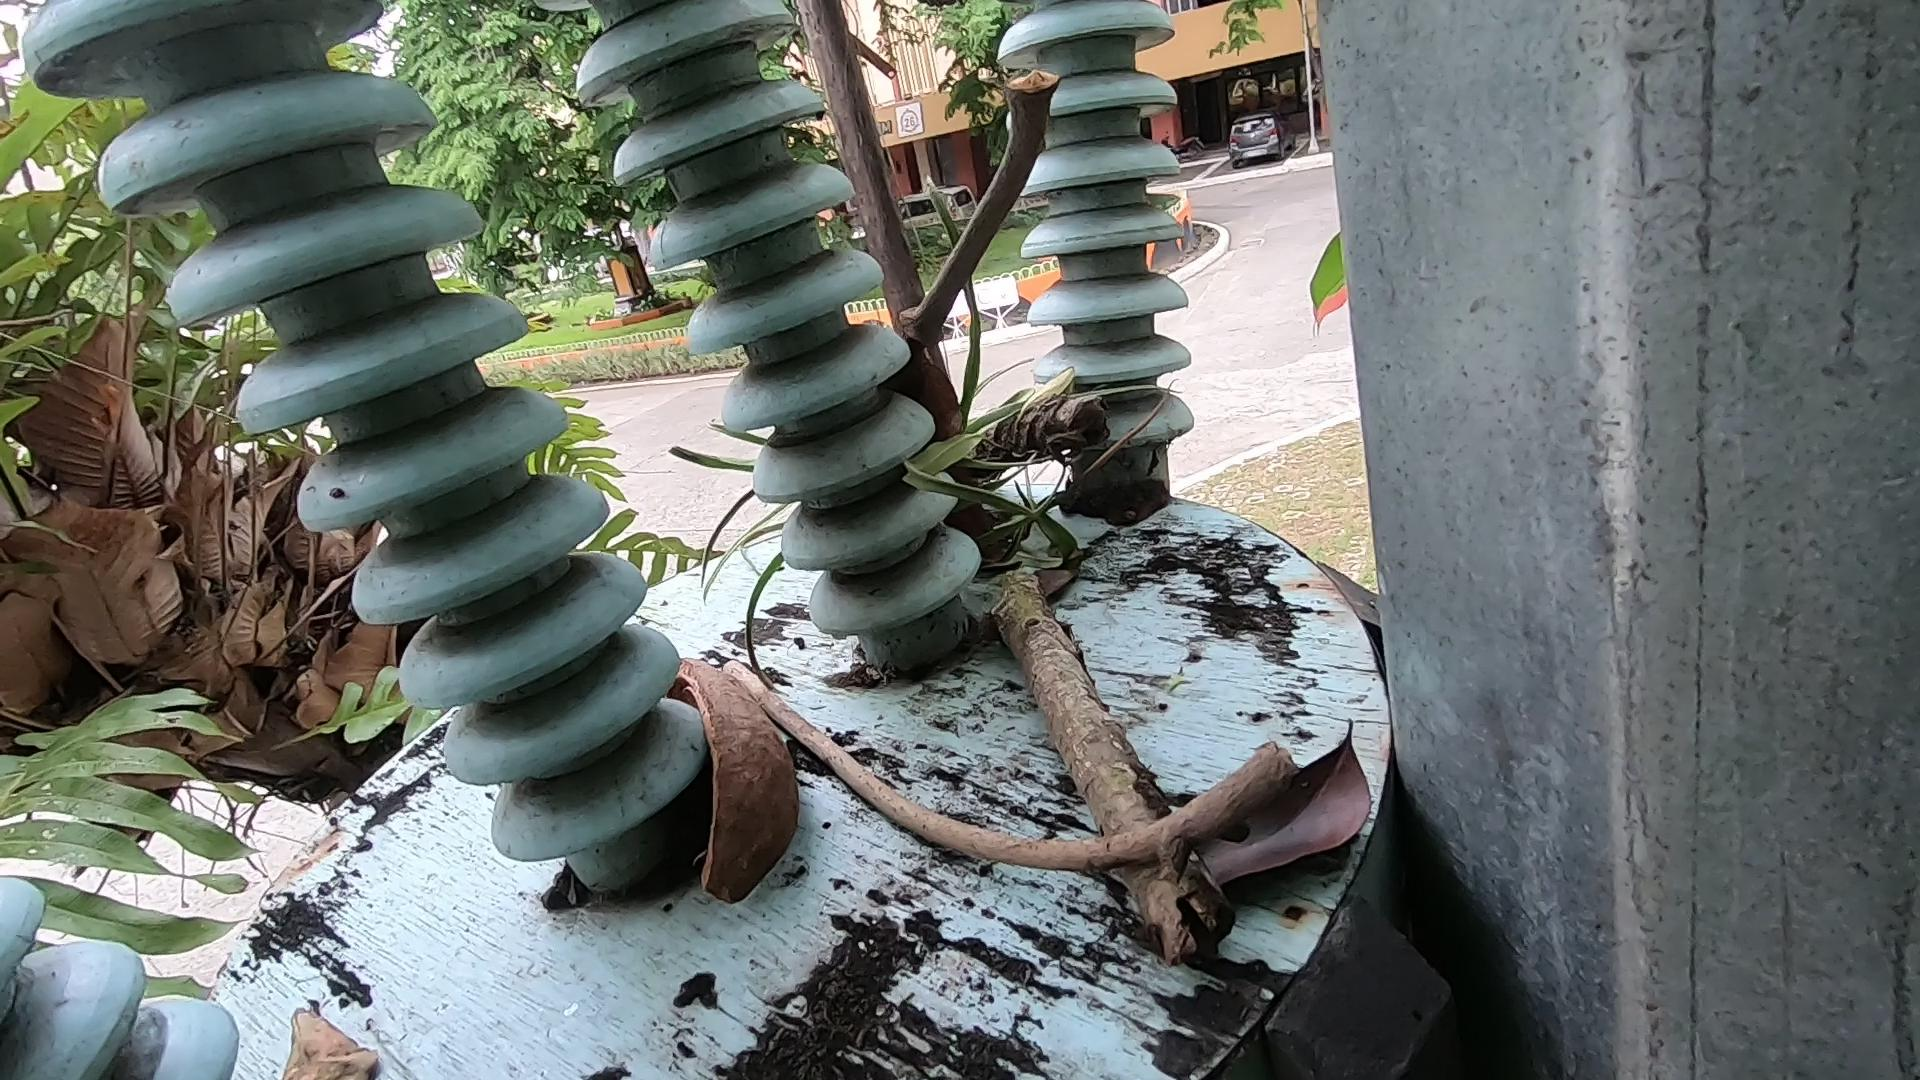branch with leaves: (829, 280, 1393, 1080)
leaf: (1178, 682, 1393, 944), (258, 984, 371, 1080)
mahogany fruit: (872, 330, 1085, 719), (654, 647, 814, 911)
tree branch: (717, 647, 1266, 911), (924, 9, 1110, 405)
